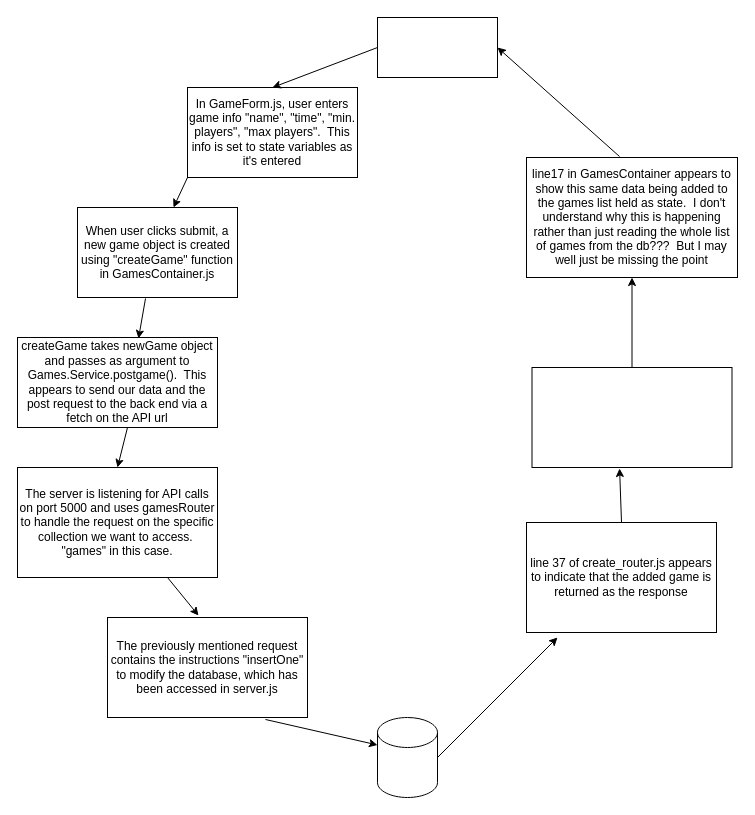
The diagram is 755 pixels wide and 815 high, and some of its shapes have lost their labels. The shapes that lost their labels are listed below. From the top down, each one's box as (x1, y1, x2, y2) in pixels, then its label:
(376, 16, 498, 78): Client
(531, 366, 732, 468): line 15 of gamesService appears to show this same response item being accessed
(376, 716, 438, 798): db
